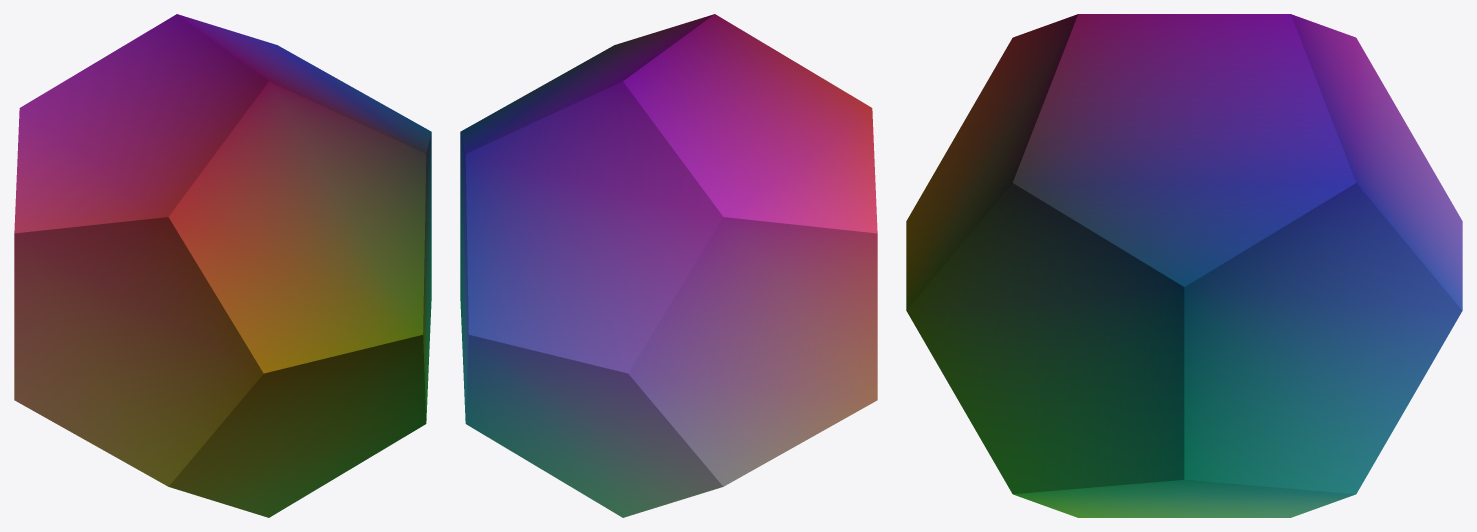
The model's file is zeometry-polyhedra-dodecahedron_v4.glb.
3 views of the same model, side by side, from view 1: azimuth 30°, elevation 25°; view 2: azimuth 150°, elevation 25°; view 3: azimuth 270°, elevation 25° (orthographic). The views are drawn at different scales.
Visible parts, largest first — view 1: Dodecahedron_v4; view 2: Dodecahedron_v4; view 3: Dodecahedron_v4.
Boxes of the visible parts, x1,y1,x2,y2 form: Dodecahedron_v4: (14, 14, 431, 517); Dodecahedron_v4: (460, 14, 877, 517); Dodecahedron_v4: (906, 14, 1462, 517).
Bounding box in the file's own units: 0.5 × 0.5 × 0.5.
